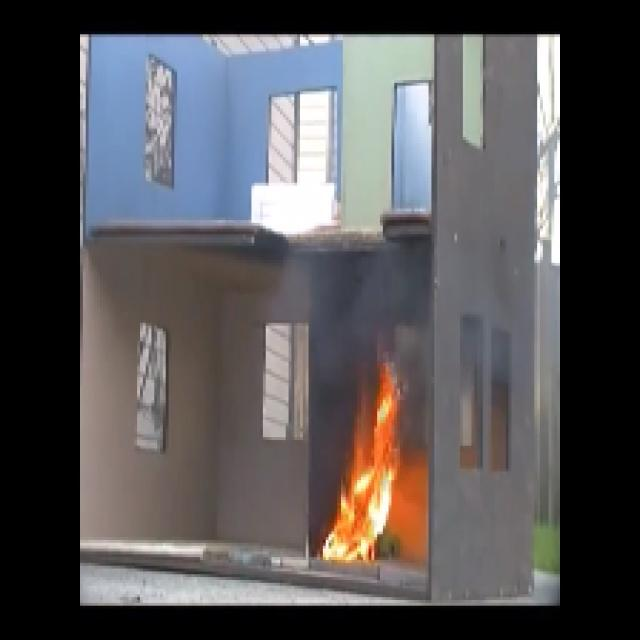fire: (334, 423, 396, 558)
smoke: (321, 257, 415, 335)
